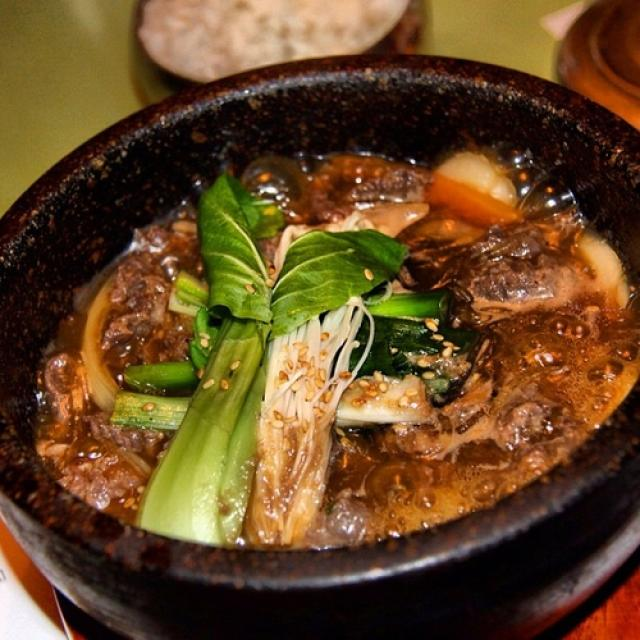汤锅炖物: (5, 60, 635, 629)
